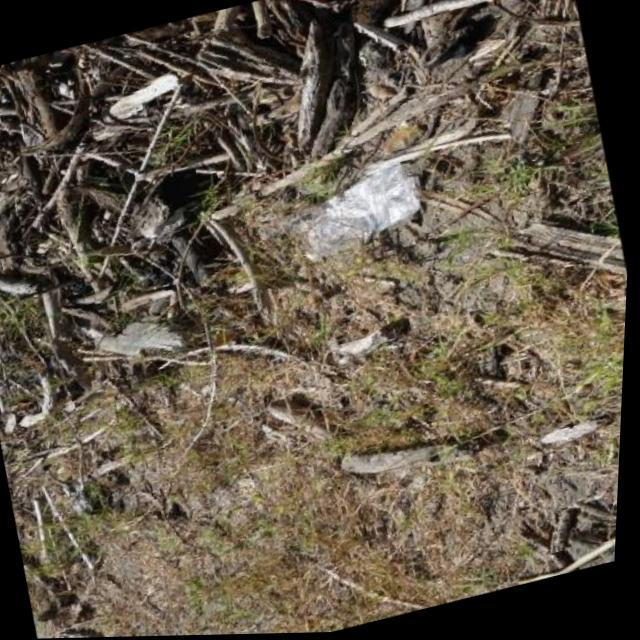plastic: (282, 156, 430, 263)
